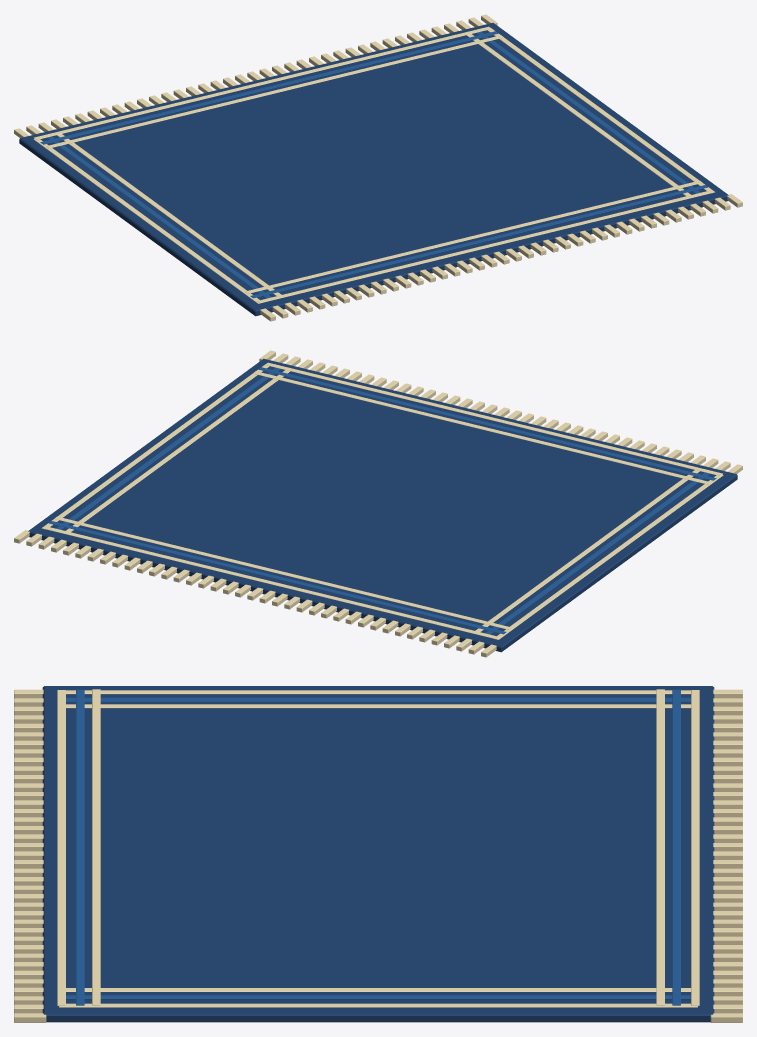
Rendered from table_rug.glb.
3 renders of one model, top to bottom at view 1: azimuth 30°, elevation 25°; view 2: azimuth 150°, elevation 25°; view 3: azimuth 270°, elevation 25°, orthographic. The views are drawn at different scales.
Parts seen in each view (by area): view 1: table_rug__body__navy, table_rug__body__linen, table_rug__body__azure; view 2: table_rug__body__navy, table_rug__body__linen, table_rug__body__azure; view 3: table_rug__body__navy, table_rug__body__linen, table_rug__body__azure.
Part boxes in pixels (x1,y1,x2,y2): table_rug__body__navy: (19,22,728,316); table_rug__body__linen: (14,14,742,321); table_rug__body__azure: (40,31,707,298); table_rug__body__navy: (28,358,737,652); table_rug__body__linen: (14,350,742,657); table_rug__body__azure: (49,367,716,634); table_rug__body__navy: (42,686,714,1022); table_rug__body__linen: (14,689,742,1022); table_rug__body__azure: (66,689,690,1005).
Size of the model in its own units: 2.92 by 0.0476 by 2.71.
